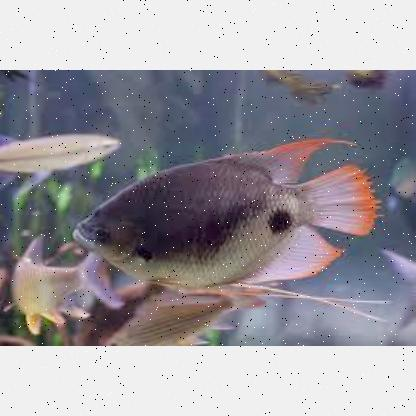gurame: (74, 140, 384, 286)
